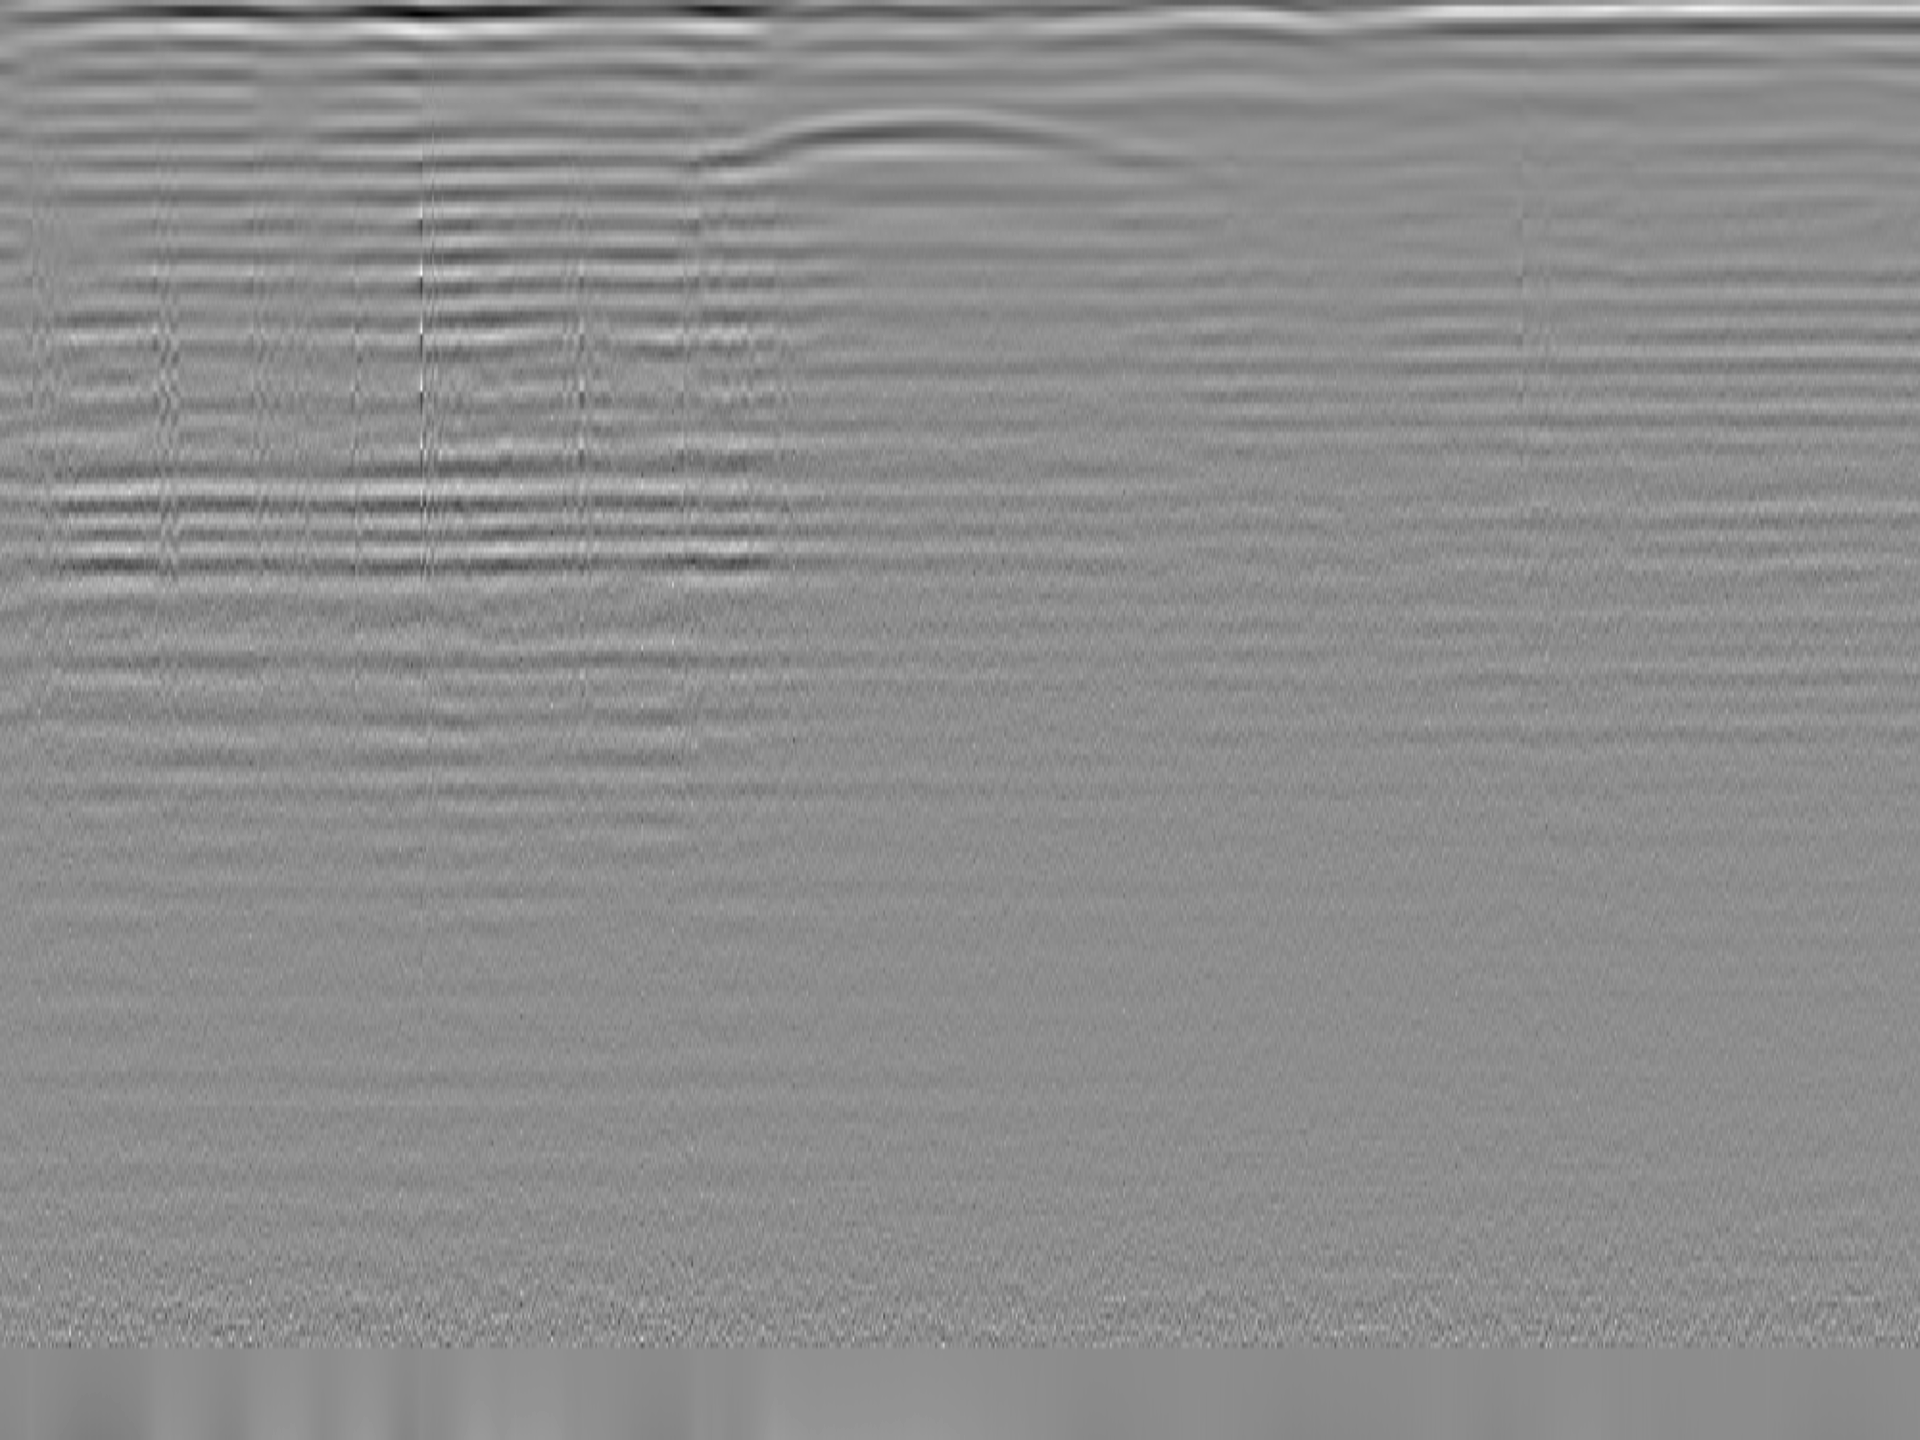Tunnel: (701, 109, 1169, 178)
